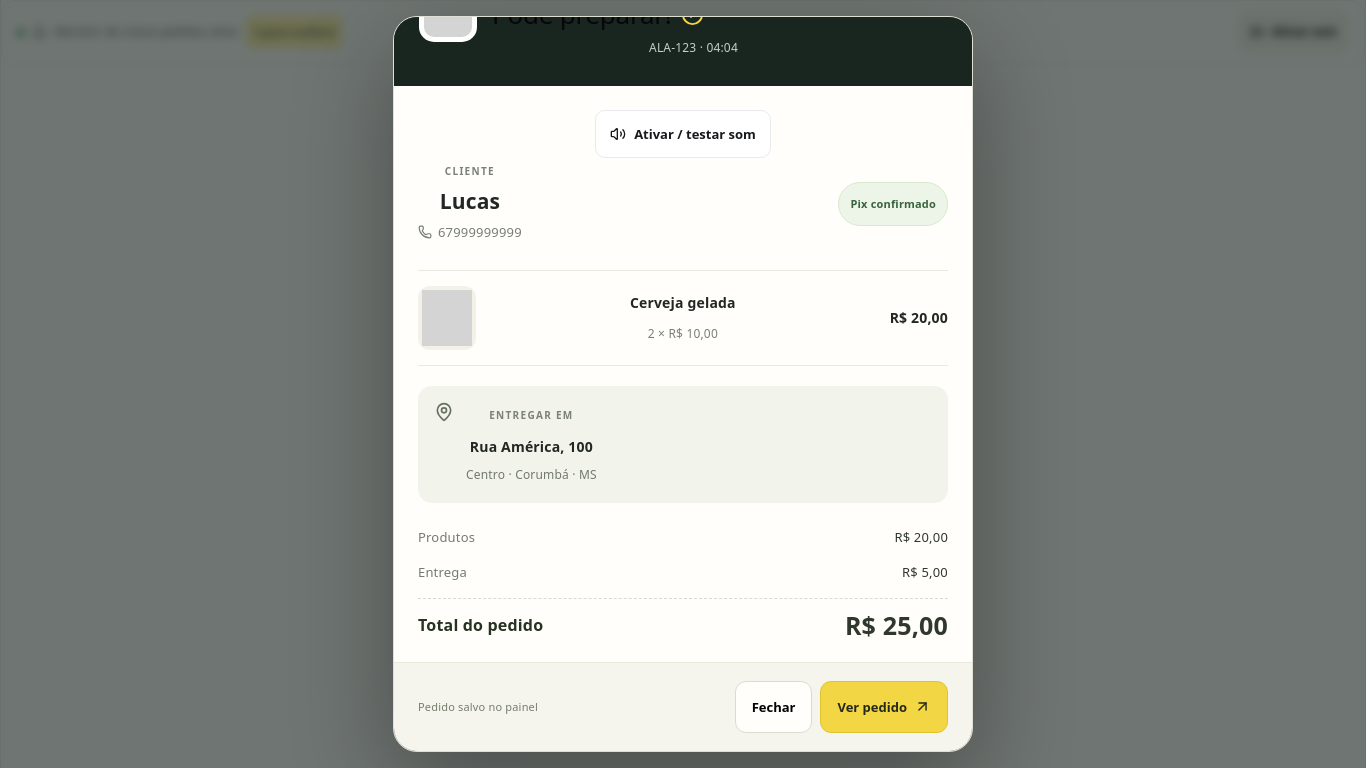
mantém aviso se o banco não confirmar o fechamento
(page scrolled)
Expected: the text "ALA-123 · 04:04" is shown, [649, 39, 738, 56]
What coordinates should you click on to do the following:
click the button "Fechar"
I would click on:
 (774, 707)
Its box is [735, 681, 812, 733].
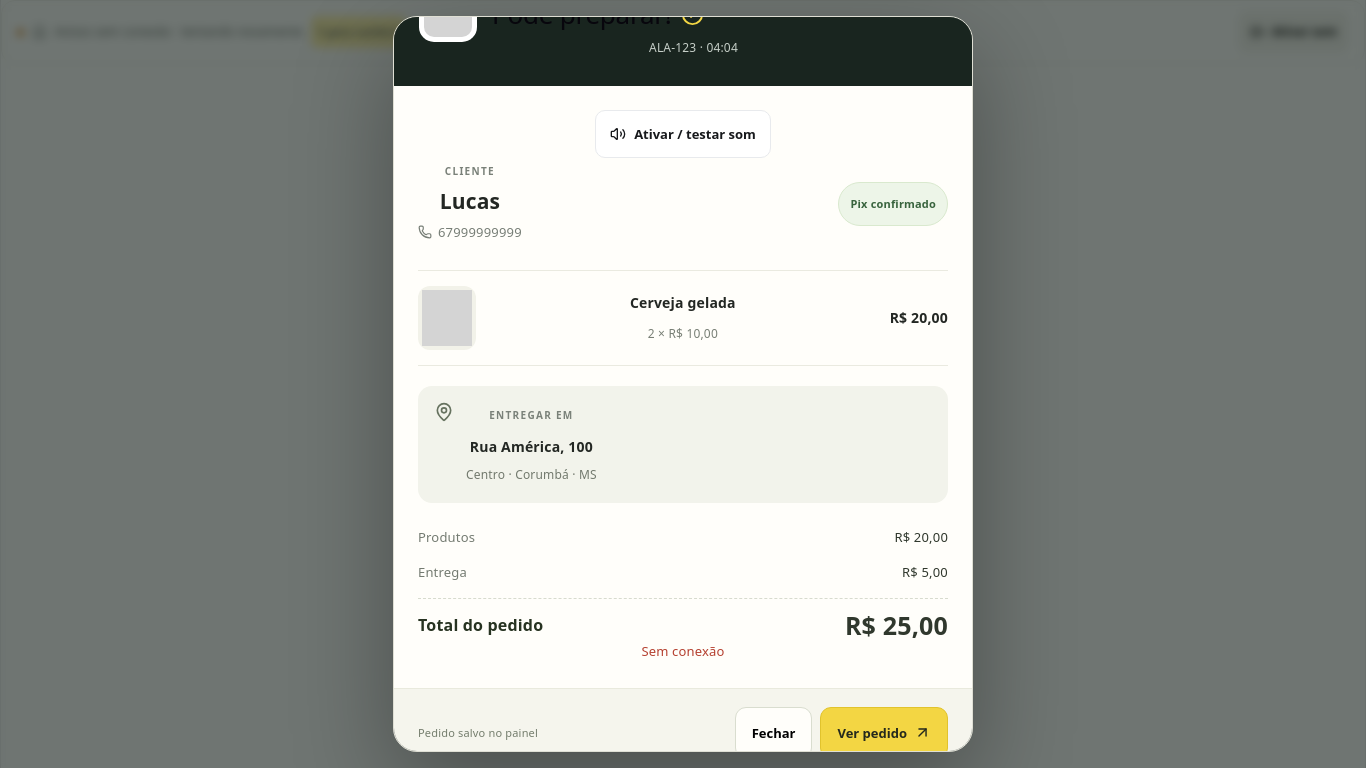
Expected: the text "ALA-123 · 04:04" is shown, [649, 39, 738, 56]
Result: the text "Sem conexão" is shown at [641, 642, 725, 660]
